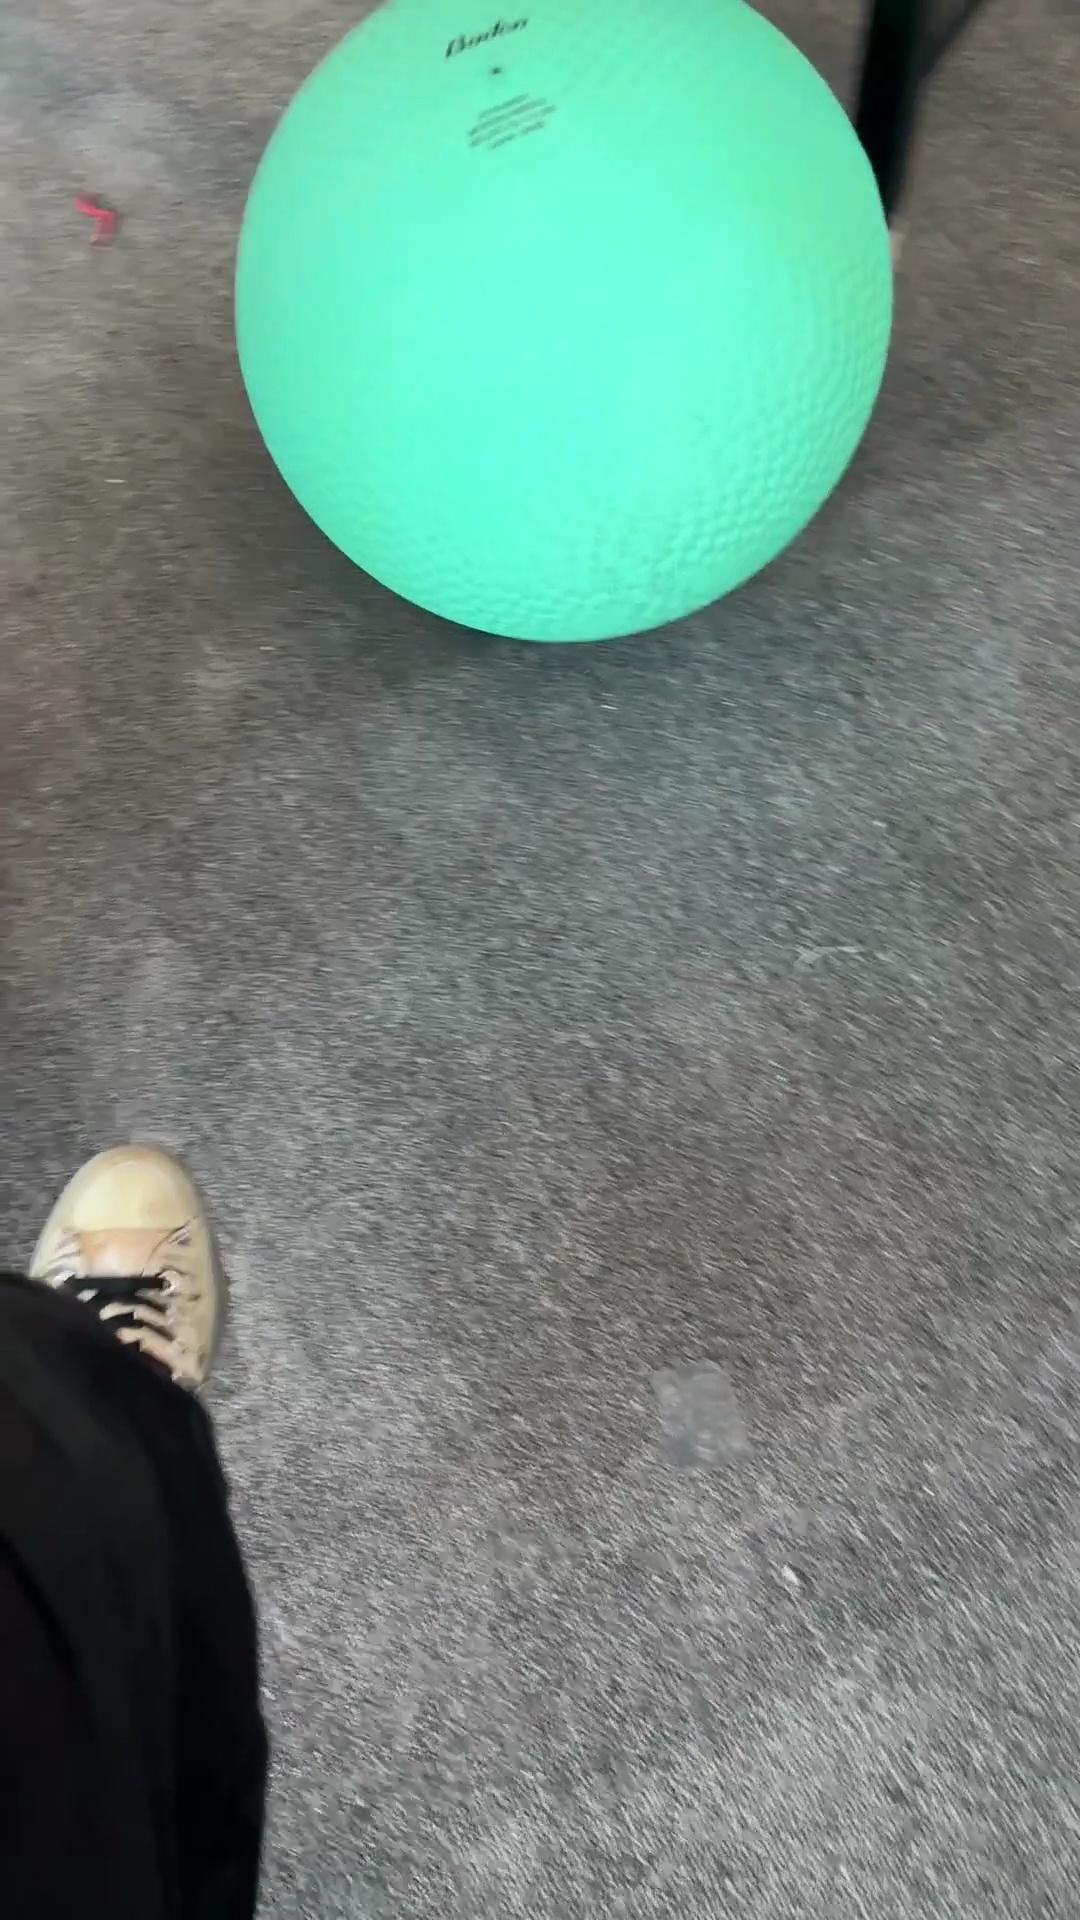ALGAE: (231, 0, 896, 645)
